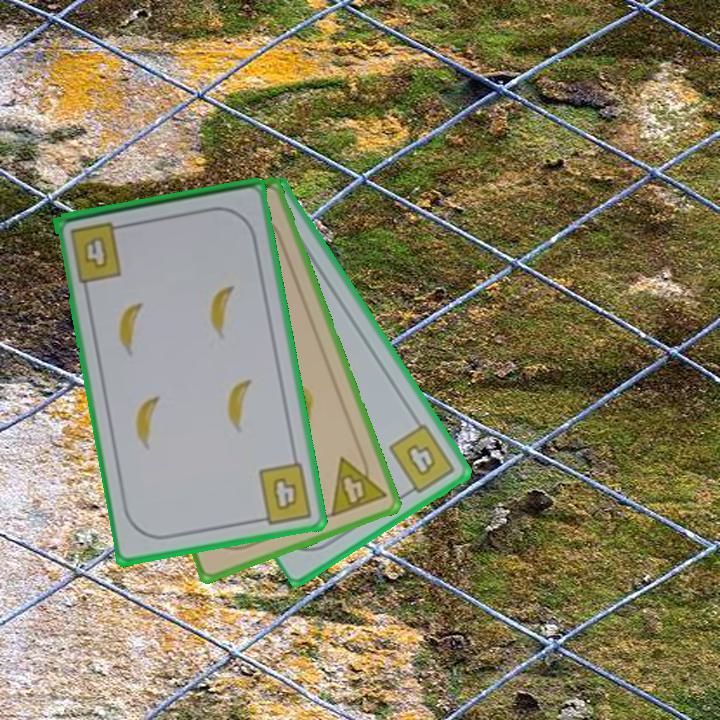4b: (385, 420, 459, 500), (252, 459, 316, 527), (66, 218, 130, 285)
4p: (327, 447, 389, 520)
